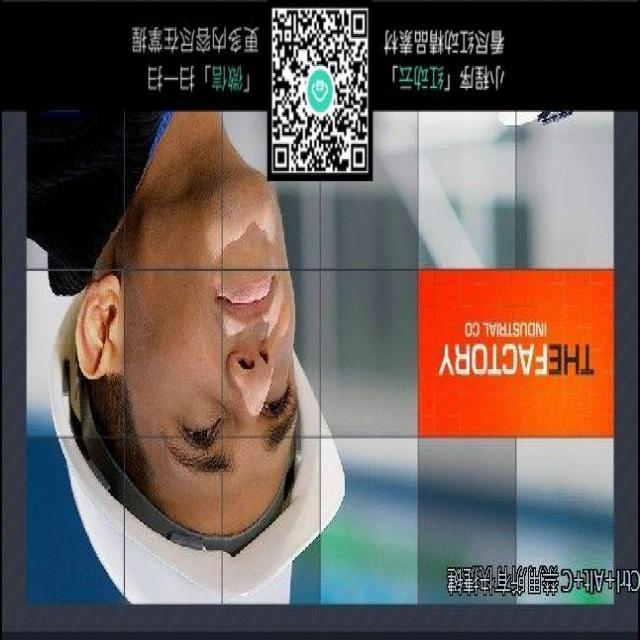safetyhelmet: (42, 315, 356, 601)
